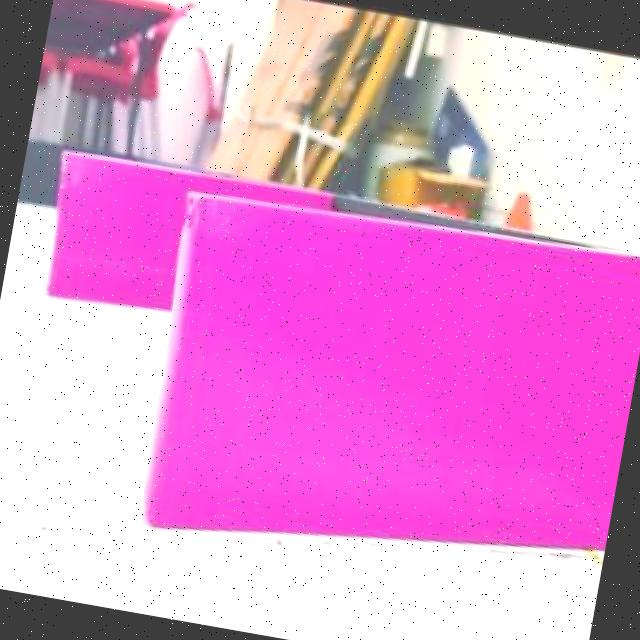xparking: (132, 187, 640, 582), (30, 144, 180, 308)
